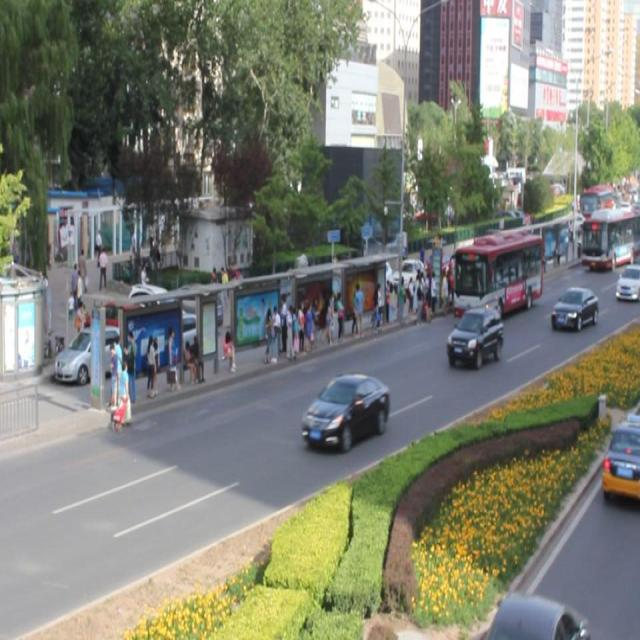car: (302, 373, 389, 451), (447, 306, 502, 365), (549, 285, 597, 330), (614, 264, 640, 301)
van: (447, 232, 538, 326)
